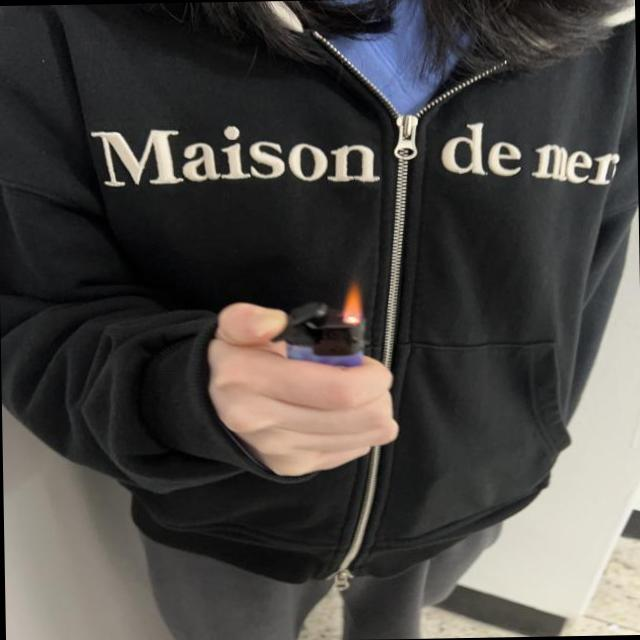Fire: (341, 282, 362, 320)
